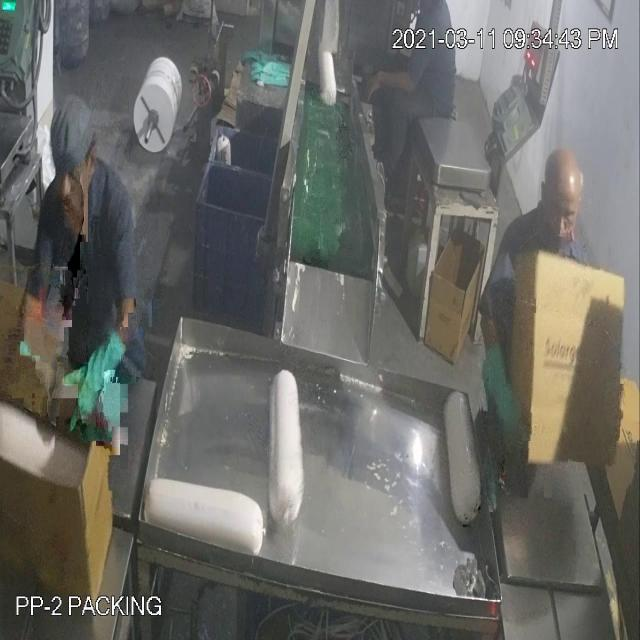No_Gloves: (360, 65, 424, 109)
